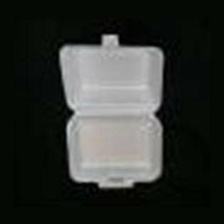foam_box: (52, 30, 177, 198)
